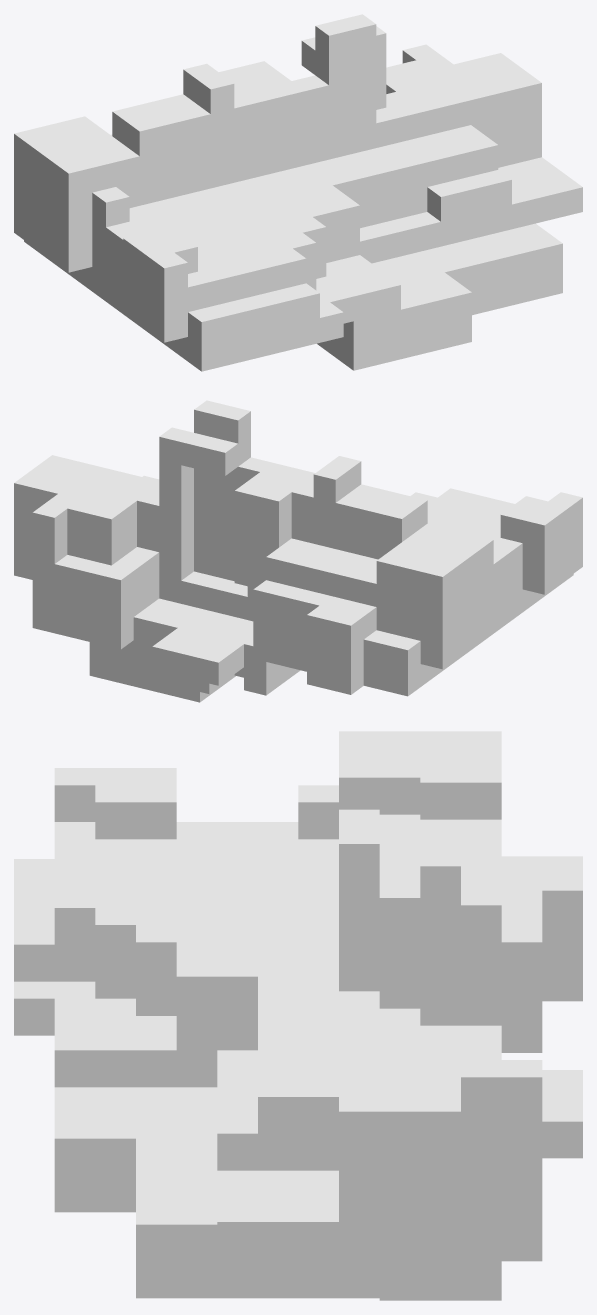
Rendered from cloud_03.2.obj.
The picture shows the model from 3 angles, top to bottom: view 1: azimuth 30°, elevation 25°; view 2: azimuth 150°, elevation 25°; view 3: azimuth 270°, elevation 25°; orthographic projection. The views are drawn at different scales.
Size of the model in its own units: 20 by 11 by 14.
1 material, 1 textured.
